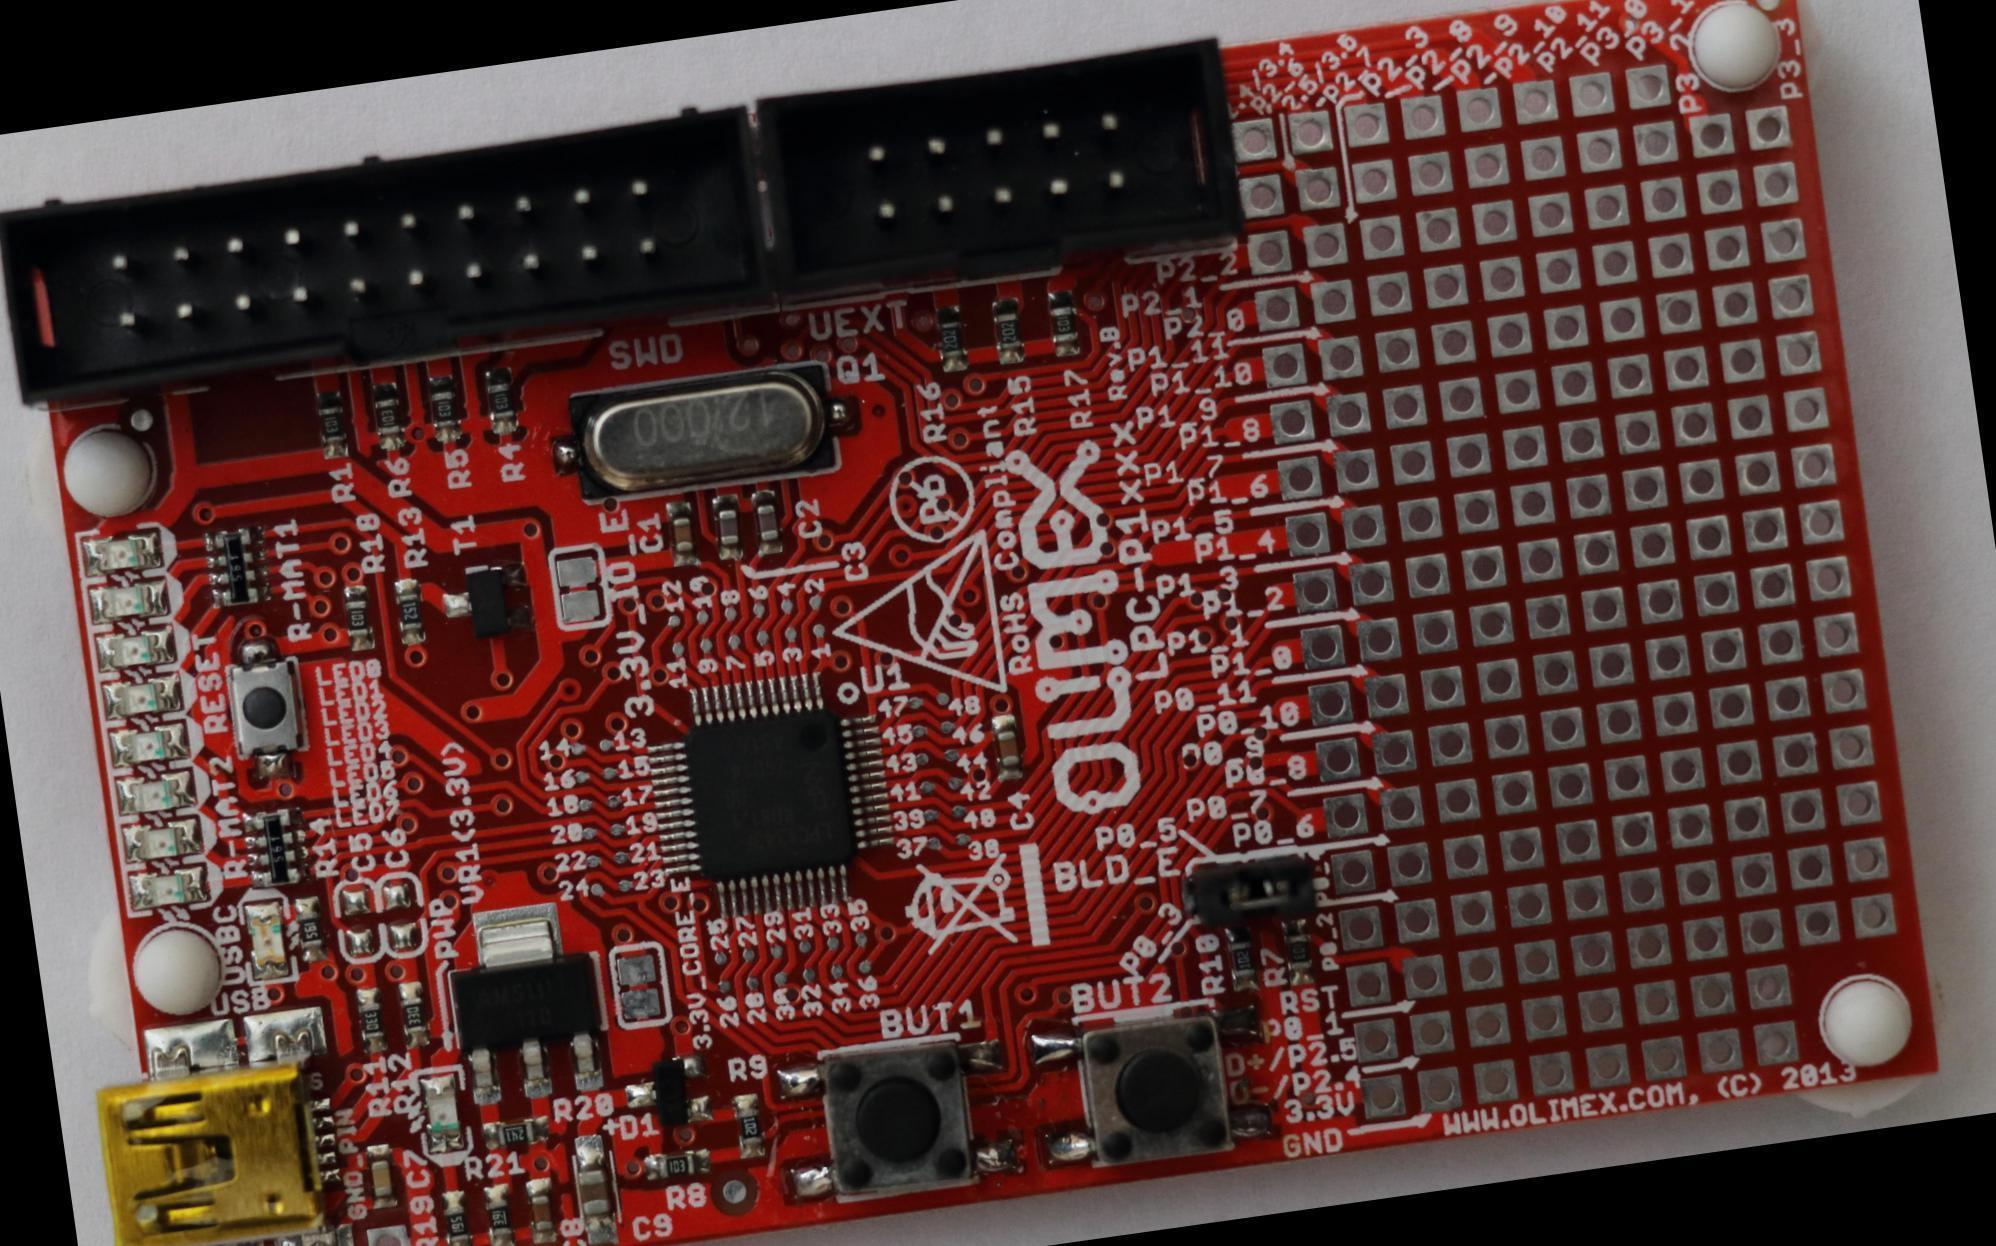Button: (1029, 998, 1277, 1174), (770, 1028, 1016, 1205), (216, 631, 314, 785)
Capacitor: (667, 499, 699, 566), (990, 712, 1021, 778), (712, 495, 743, 560), (525, 1176, 555, 1243), (751, 489, 780, 553), (367, 1145, 393, 1207)
Connector: (1225, 43, 1918, 1122), (0, 105, 776, 413), (753, 33, 1244, 304), (70, 977, 342, 1245)
Diode: (619, 1052, 710, 1129)
Electrolytic Capacitor: (570, 1132, 622, 1245)
IC: (637, 665, 902, 925), (439, 896, 612, 1106)
Led: (95, 666, 188, 725), (117, 808, 209, 867), (123, 856, 214, 914), (91, 619, 182, 676), (108, 762, 200, 820), (103, 715, 194, 772), (414, 1066, 469, 1158), (77, 524, 165, 580), (83, 573, 172, 628), (239, 899, 295, 983)
Pads: (543, 540, 613, 633), (604, 937, 675, 1031), (327, 872, 385, 966), (373, 869, 430, 961)
Resistor: (204, 525, 274, 606), (243, 803, 310, 886), (293, 894, 329, 963), (371, 382, 405, 451), (428, 374, 460, 442), (991, 299, 1024, 364), (394, 576, 426, 644), (315, 389, 347, 458), (342, 584, 374, 649), (1282, 919, 1314, 984), (1226, 926, 1259, 989), (732, 1092, 764, 1159), (1047, 290, 1079, 355), (643, 1148, 710, 1179), (355, 986, 385, 1052), (486, 369, 517, 434), (935, 306, 966, 371), (483, 1182, 513, 1245), (399, 982, 427, 1046), (440, 1189, 472, 1245), (495, 1122, 534, 1145)
Transistor: (438, 558, 534, 640)
